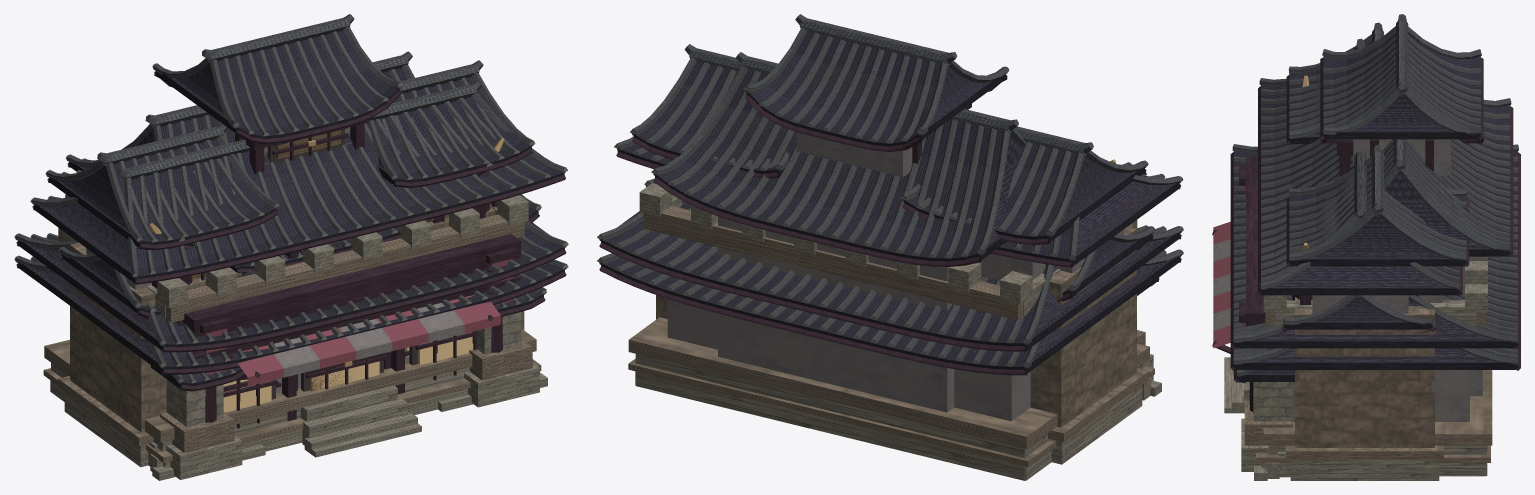
Rendered from regional_shadow.glb.
The picture shows the model from 3 angles, left to right: view 1: azimuth 30°, elevation 25°; view 2: azimuth 150°, elevation 25°; view 3: azimuth 270°, elevation 25°; orthographic projection. The views are drawn at different scales.
Visible parts, largest first — view 1: gate, wing, hall, home, shop, cottage; view 2: hall, wing, home, gate, cottage; view 3: gate, hall, wing, home, cottage, shop.
Boxes of the visible parts, bbox=[...] form: gate: bbox=[30, 80, 567, 480]; wing: bbox=[43, 60, 541, 467]; hall: bbox=[44, 14, 546, 479]; home: bbox=[14, 221, 568, 419]; shop: bbox=[223, 295, 500, 428]; cottage: bbox=[14, 255, 568, 390]; hall: bbox=[628, 14, 1159, 480]; wing: bbox=[628, 44, 1154, 480]; home: bbox=[597, 203, 1183, 420]; gate: bbox=[614, 136, 1183, 464]; cottage: bbox=[597, 249, 1183, 375]; gate: bbox=[1254, 38, 1462, 480]; hall: bbox=[1232, 14, 1513, 475]; wing: bbox=[1224, 22, 1490, 476]; home: bbox=[1230, 144, 1520, 421]; cottage: bbox=[1230, 347, 1520, 370]; shop: bbox=[1212, 221, 1230, 353].
Size of the model in its own units: 2.25 by 1.71 by 1.41.
1 material, 1 textured.
